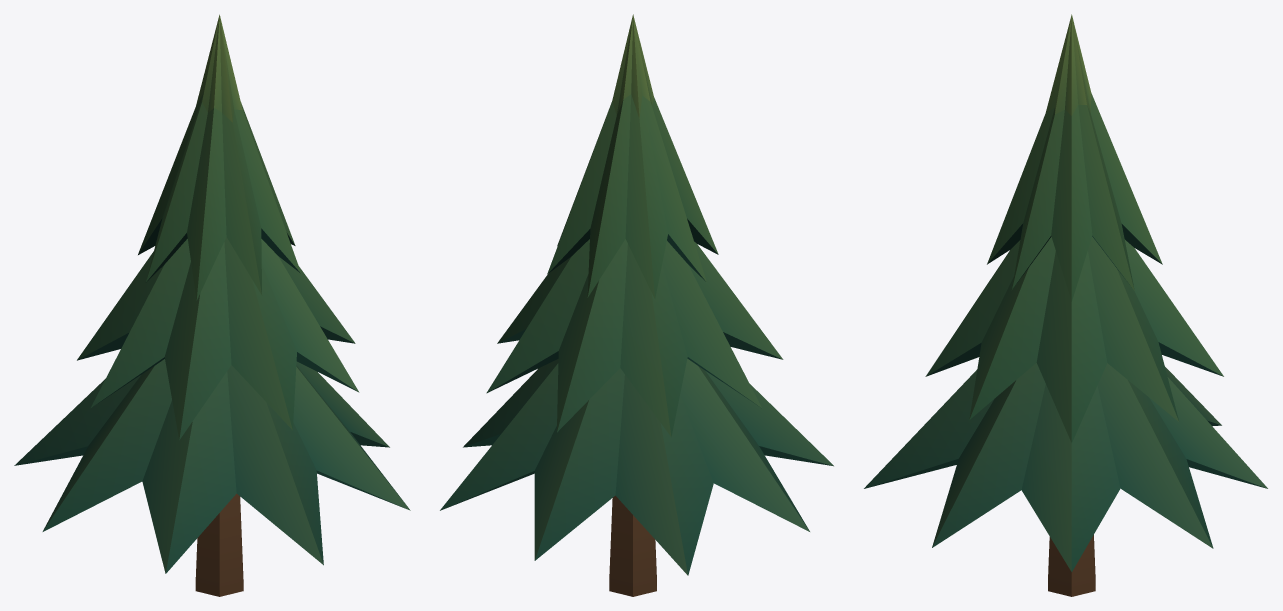
The picture shows the model from 3 angles, left to right: view 1: azimuth 30°, elevation 25°; view 2: azimuth 150°, elevation 25°; view 3: azimuth 270°, elevation 25°; orthographic projection.
Visible parts, largest first — view 1: prop_pine_b; view 2: prop_pine_b; view 3: prop_pine_b.
Boxes of the visible parts, x1,y1,x2,y2 form: prop_pine_b: (14,14,410,596); prop_pine_b: (440,14,833,596); prop_pine_b: (864,14,1267,596).
Bounding box in the file's own units: 4.46 × 7 × 4.5.
